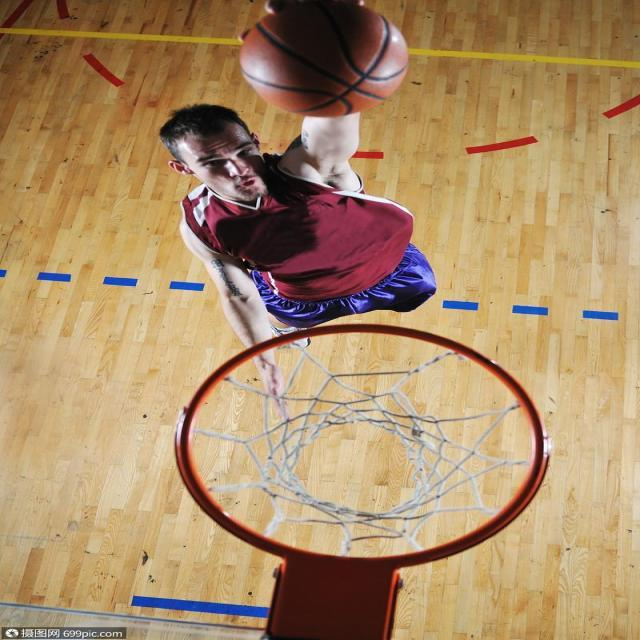rim: (238, 8, 408, 116)
